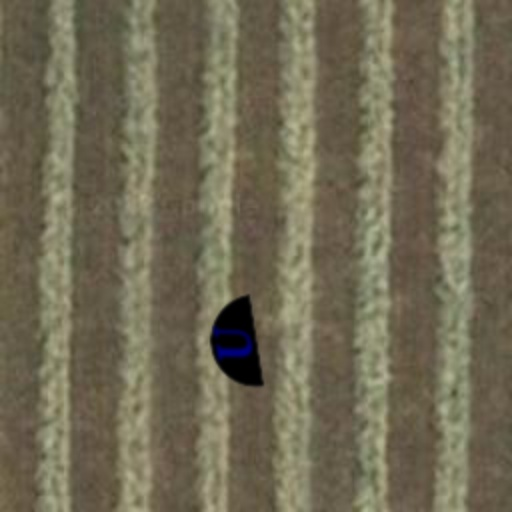semicircle: (180, 290, 288, 398)
